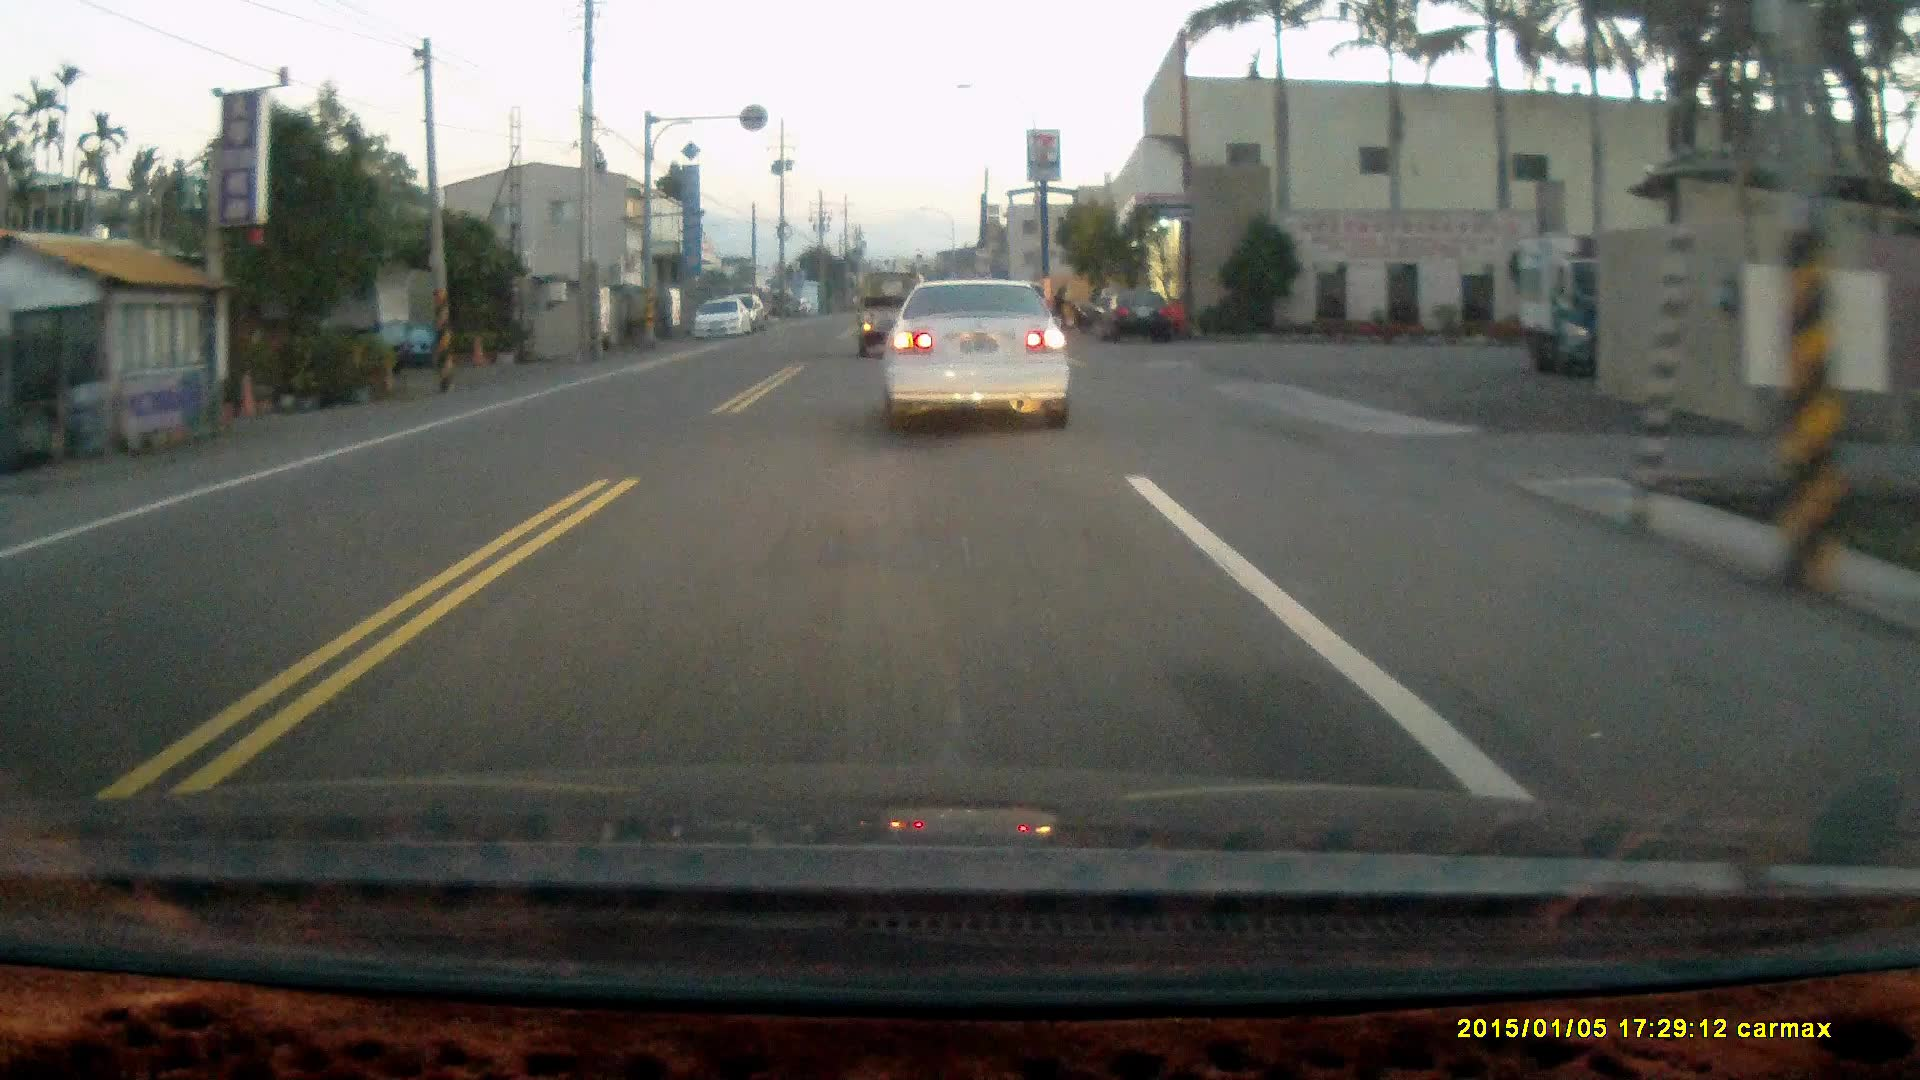rider: (1041, 279, 1087, 331)
vehicle: (889, 277, 1077, 437), (1511, 234, 1672, 383), (859, 274, 933, 363), (1095, 284, 1172, 344), (692, 295, 754, 343)
